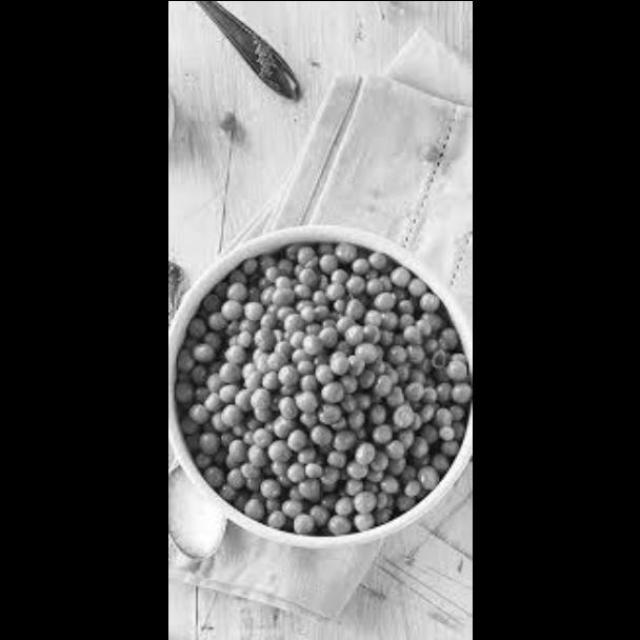dau Ha Lan: (177, 239, 467, 546), (204, 107, 242, 137), (416, 144, 438, 162)
